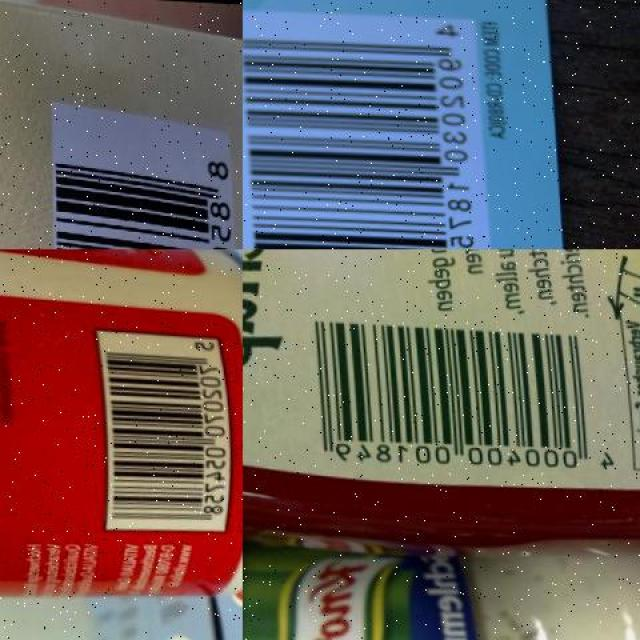Barcode: (242, 0, 489, 249), (292, 306, 620, 478), (94, 327, 230, 530), (36, 135, 243, 249)
